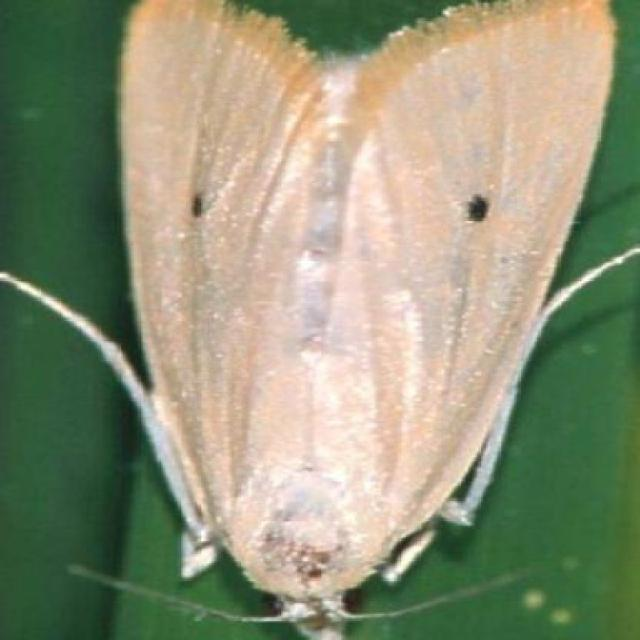stem-borer: (81, 0, 625, 640)
